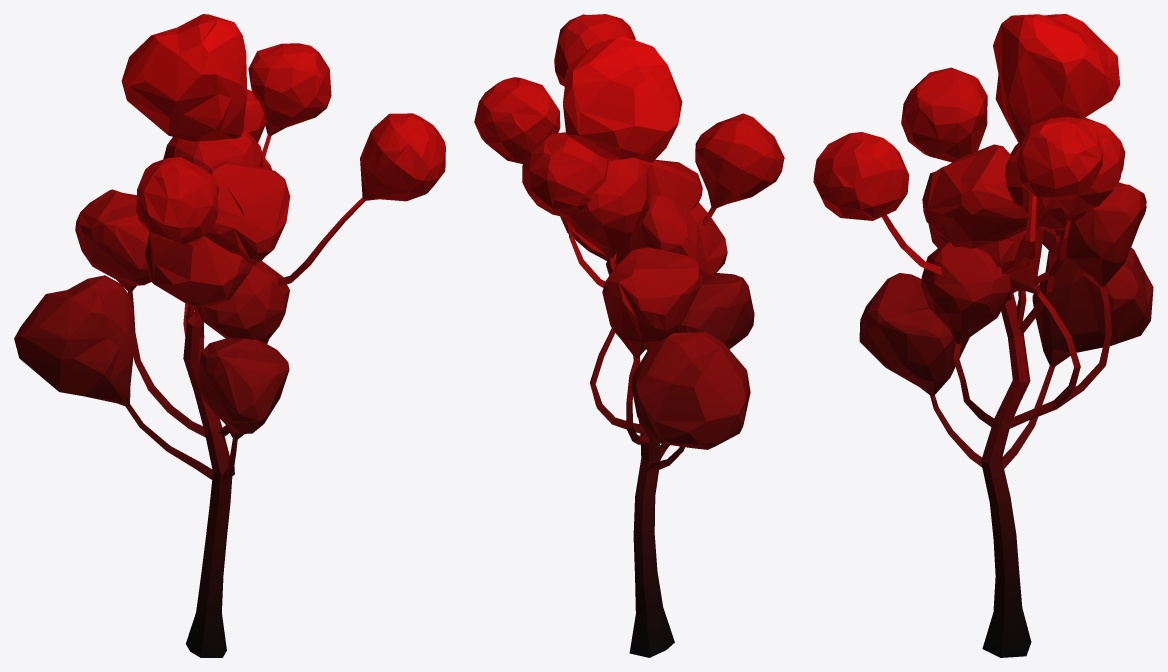
Rendered from TreeEuca01.fbx.
3 views of the same model, side by side, from view 1: azimuth 30°, elevation 25°; view 2: azimuth 150°, elevation 25°; view 3: azimuth 270°, elevation 25° (orthographic). The views are drawn at different scales.
Visible parts, largest first — view 1: TreeEuca01_LOD0; view 2: TreeEuca01_LOD0; view 3: TreeEuca01_LOD0.
Boxes of the visible parts, <box> form: TreeEuca01_LOD0: <box>14,14,445,657</box>; TreeEuca01_LOD0: <box>474,14,784,657</box>; TreeEuca01_LOD0: <box>813,14,1153,657</box>.
Size of what is drawn, in the model's own units: 445 by 859 by 412.
